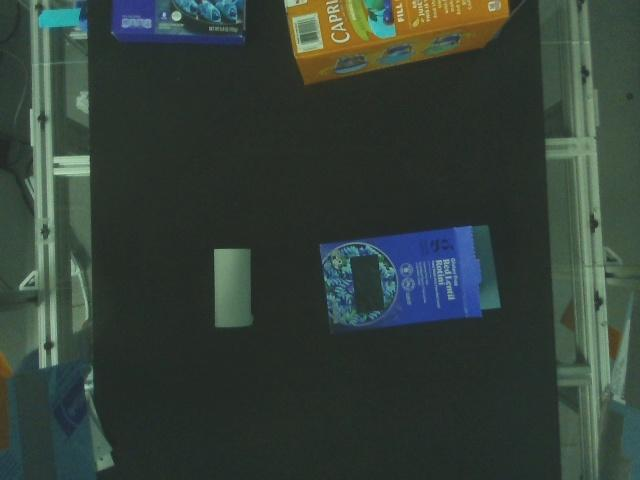cardboard: (280, 0, 530, 89), (315, 222, 507, 337), (107, 0, 251, 49), (211, 245, 258, 331)
